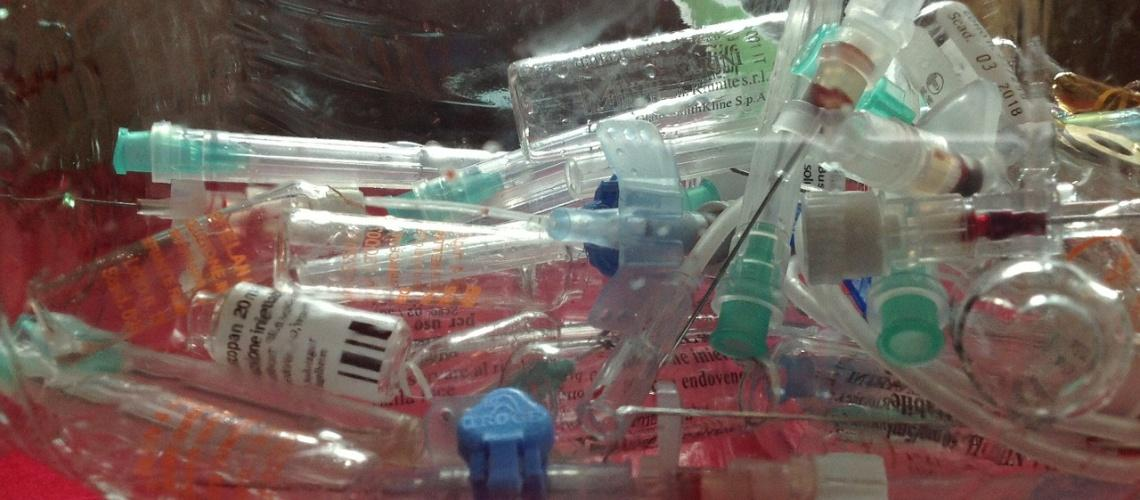Iv_Bottle: (2, 320, 423, 496), (28, 183, 355, 351), (508, 13, 784, 157), (276, 210, 601, 310), (186, 282, 411, 402)
Syringe: (711, 0, 920, 357), (796, 192, 1113, 283), (113, 121, 501, 188)
